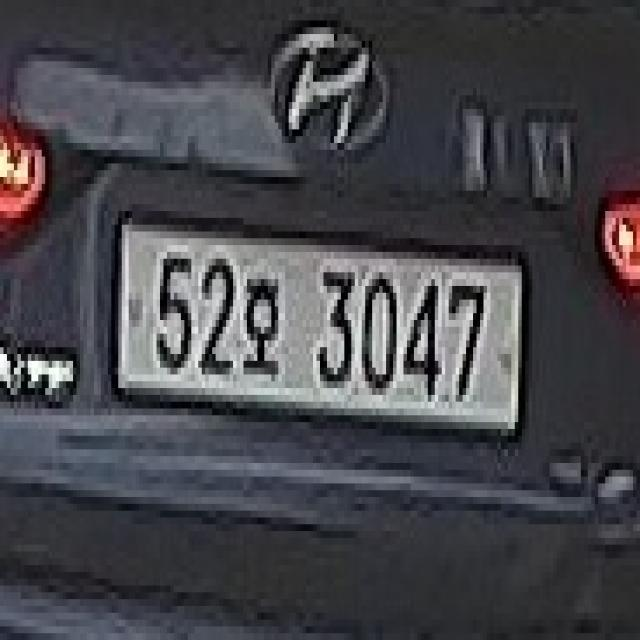0: (356, 266, 402, 400)
2: (199, 253, 236, 381)
3: (313, 263, 353, 392)
4: (404, 276, 446, 410)
5: (152, 242, 195, 376)
7: (446, 282, 488, 410)
ho: (240, 264, 282, 399)
license_plate: (102, 184, 537, 479)
